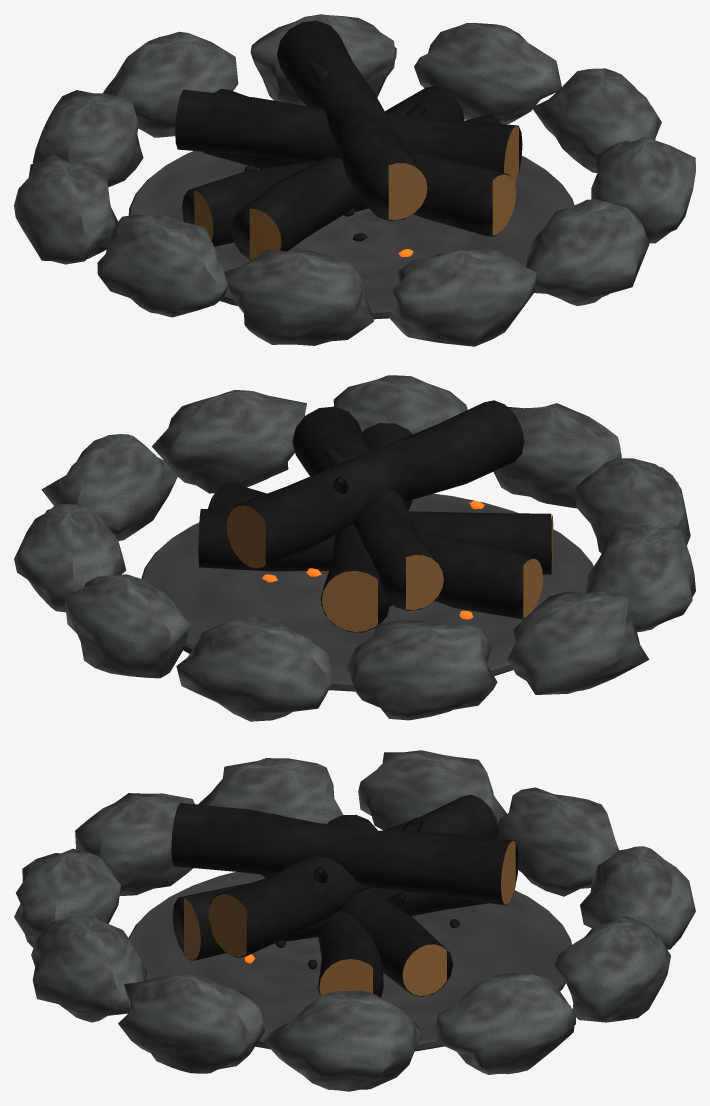
The model's file is campfire-base.glb.
3 views of the same model, one above another, from view 1: azimuth 30°, elevation 25°; view 2: azimuth 150°, elevation 25°; view 3: azimuth 270°, elevation 25° (orthographic). The views are drawn at different scales.
Parts seen in each view (by area): view 1: campfire-base; view 2: campfire-base; view 3: campfire-base.
Boxes of the visible parts, x1,y1,x2,y2 form: campfire-base: [14, 14, 695, 346]; campfire-base: [14, 375, 695, 721]; campfire-base: [14, 750, 695, 1091].
Size of the model in its own units: 1.16 by 0.27 by 1.15.
Materials: 5 (4 with a texture image).
